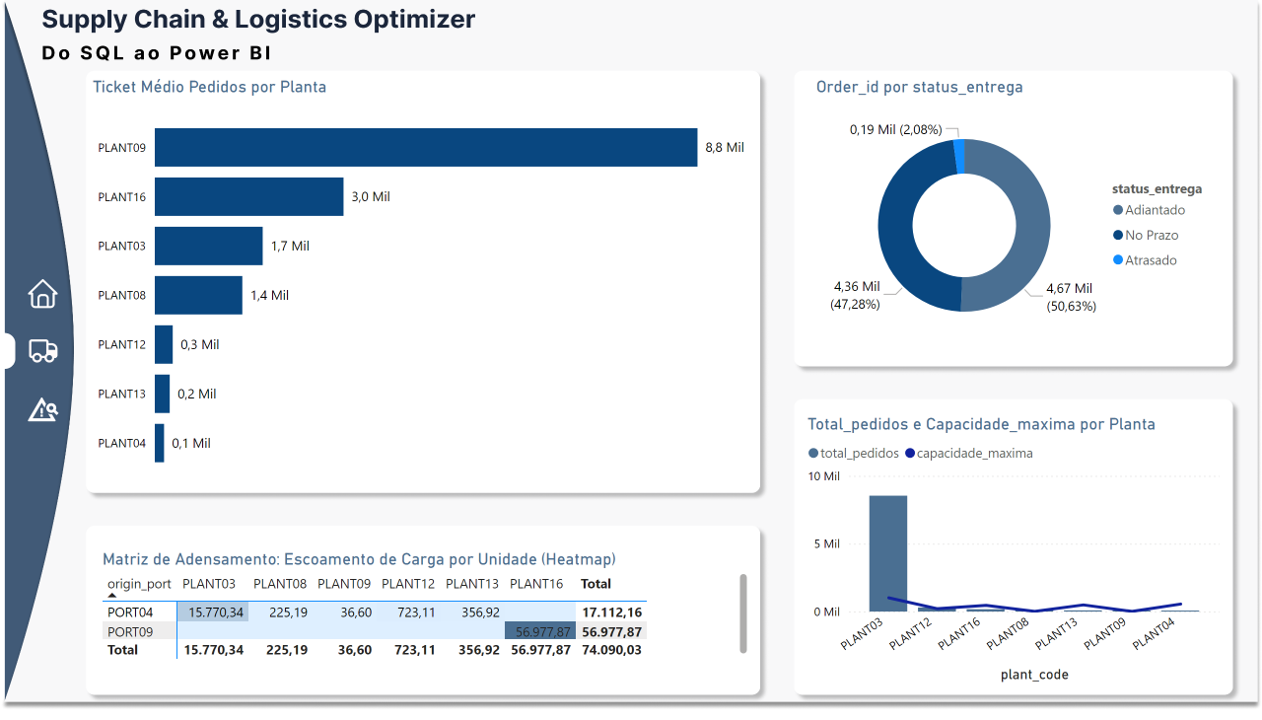

Layout of this report page (visuals, bound fields, positions):
{"tool":"powerbi","page":{"name":"Eficiência e Malha Logística","canvas":[1280,720],"ordinal":1},"visuals":[{"type":"lineStackedColumnComboChart","title":"Total_pedidos e Capacidade_maxima por Planta","fields":{"Category":["public vw_analise_capacidade.plant_code"],"Y":["Sum(public vw_analise_capacidade.total_pedidos)"],"Y2":["Sum(public vw_analise_capacidade.capacidade_maxima)"]},"box":[813.5,419.5,428,276.4],"z":0},{"type":"donutChart","title":"Order_id por status_entrega","fields":{"Y":["Count(public vw_performance_sla.order_id)"],"Category":["public vw_performance_sla.status_entrega"]},"box":[823.5,78,418.1,282],"z":1000},{"type":"pivotTable","title":"Matriz de Adensamento: Escoamento de Carga por Unidade (Heatmap)","fields":{"Rows":["public orderlist.origin_port"],"Columns":["public vw_custos_totais.plant_code"],"Values":["Sum(public vw_custos_totais.custo_frete_estimado)"]},"box":[99.2,557,664.7,116.2],"z":2000},{"type":"barChart","title":"Ticket Médio Pedidos por Planta","fields":{"Category":["public whcapacities.plant_id"],"Y":["Calculate.Ticket Médio Frete"]},"box":[89.3,78,674.6,416.7],"z":3000},{"type":"pageNavigator","box":[18.1,267.6,50.6,182.6],"z":4000}]}

Visuals, with their boxes on the page's 1280x720 design canvas (x1, y1, x2, y2). These are canvas units, not pixel positions in the 1262x720 screenshot, which may show the page scaled, cropped or inside an application window:
"Total_pedidos e Capacidade_maxima por Planta" lineStackedColumnComboChart: 814/420/1242/696
"Order_id por status_entrega" donutChart: 824/78/1242/360
"Matriz de Adensamento: Escoamento de Carga por Unidade (Heatmap)" pivotTable: 99/557/764/673
"Ticket Médio Pedidos por Planta" barChart: 89/78/764/495
pageNavigator: 18/268/69/450
